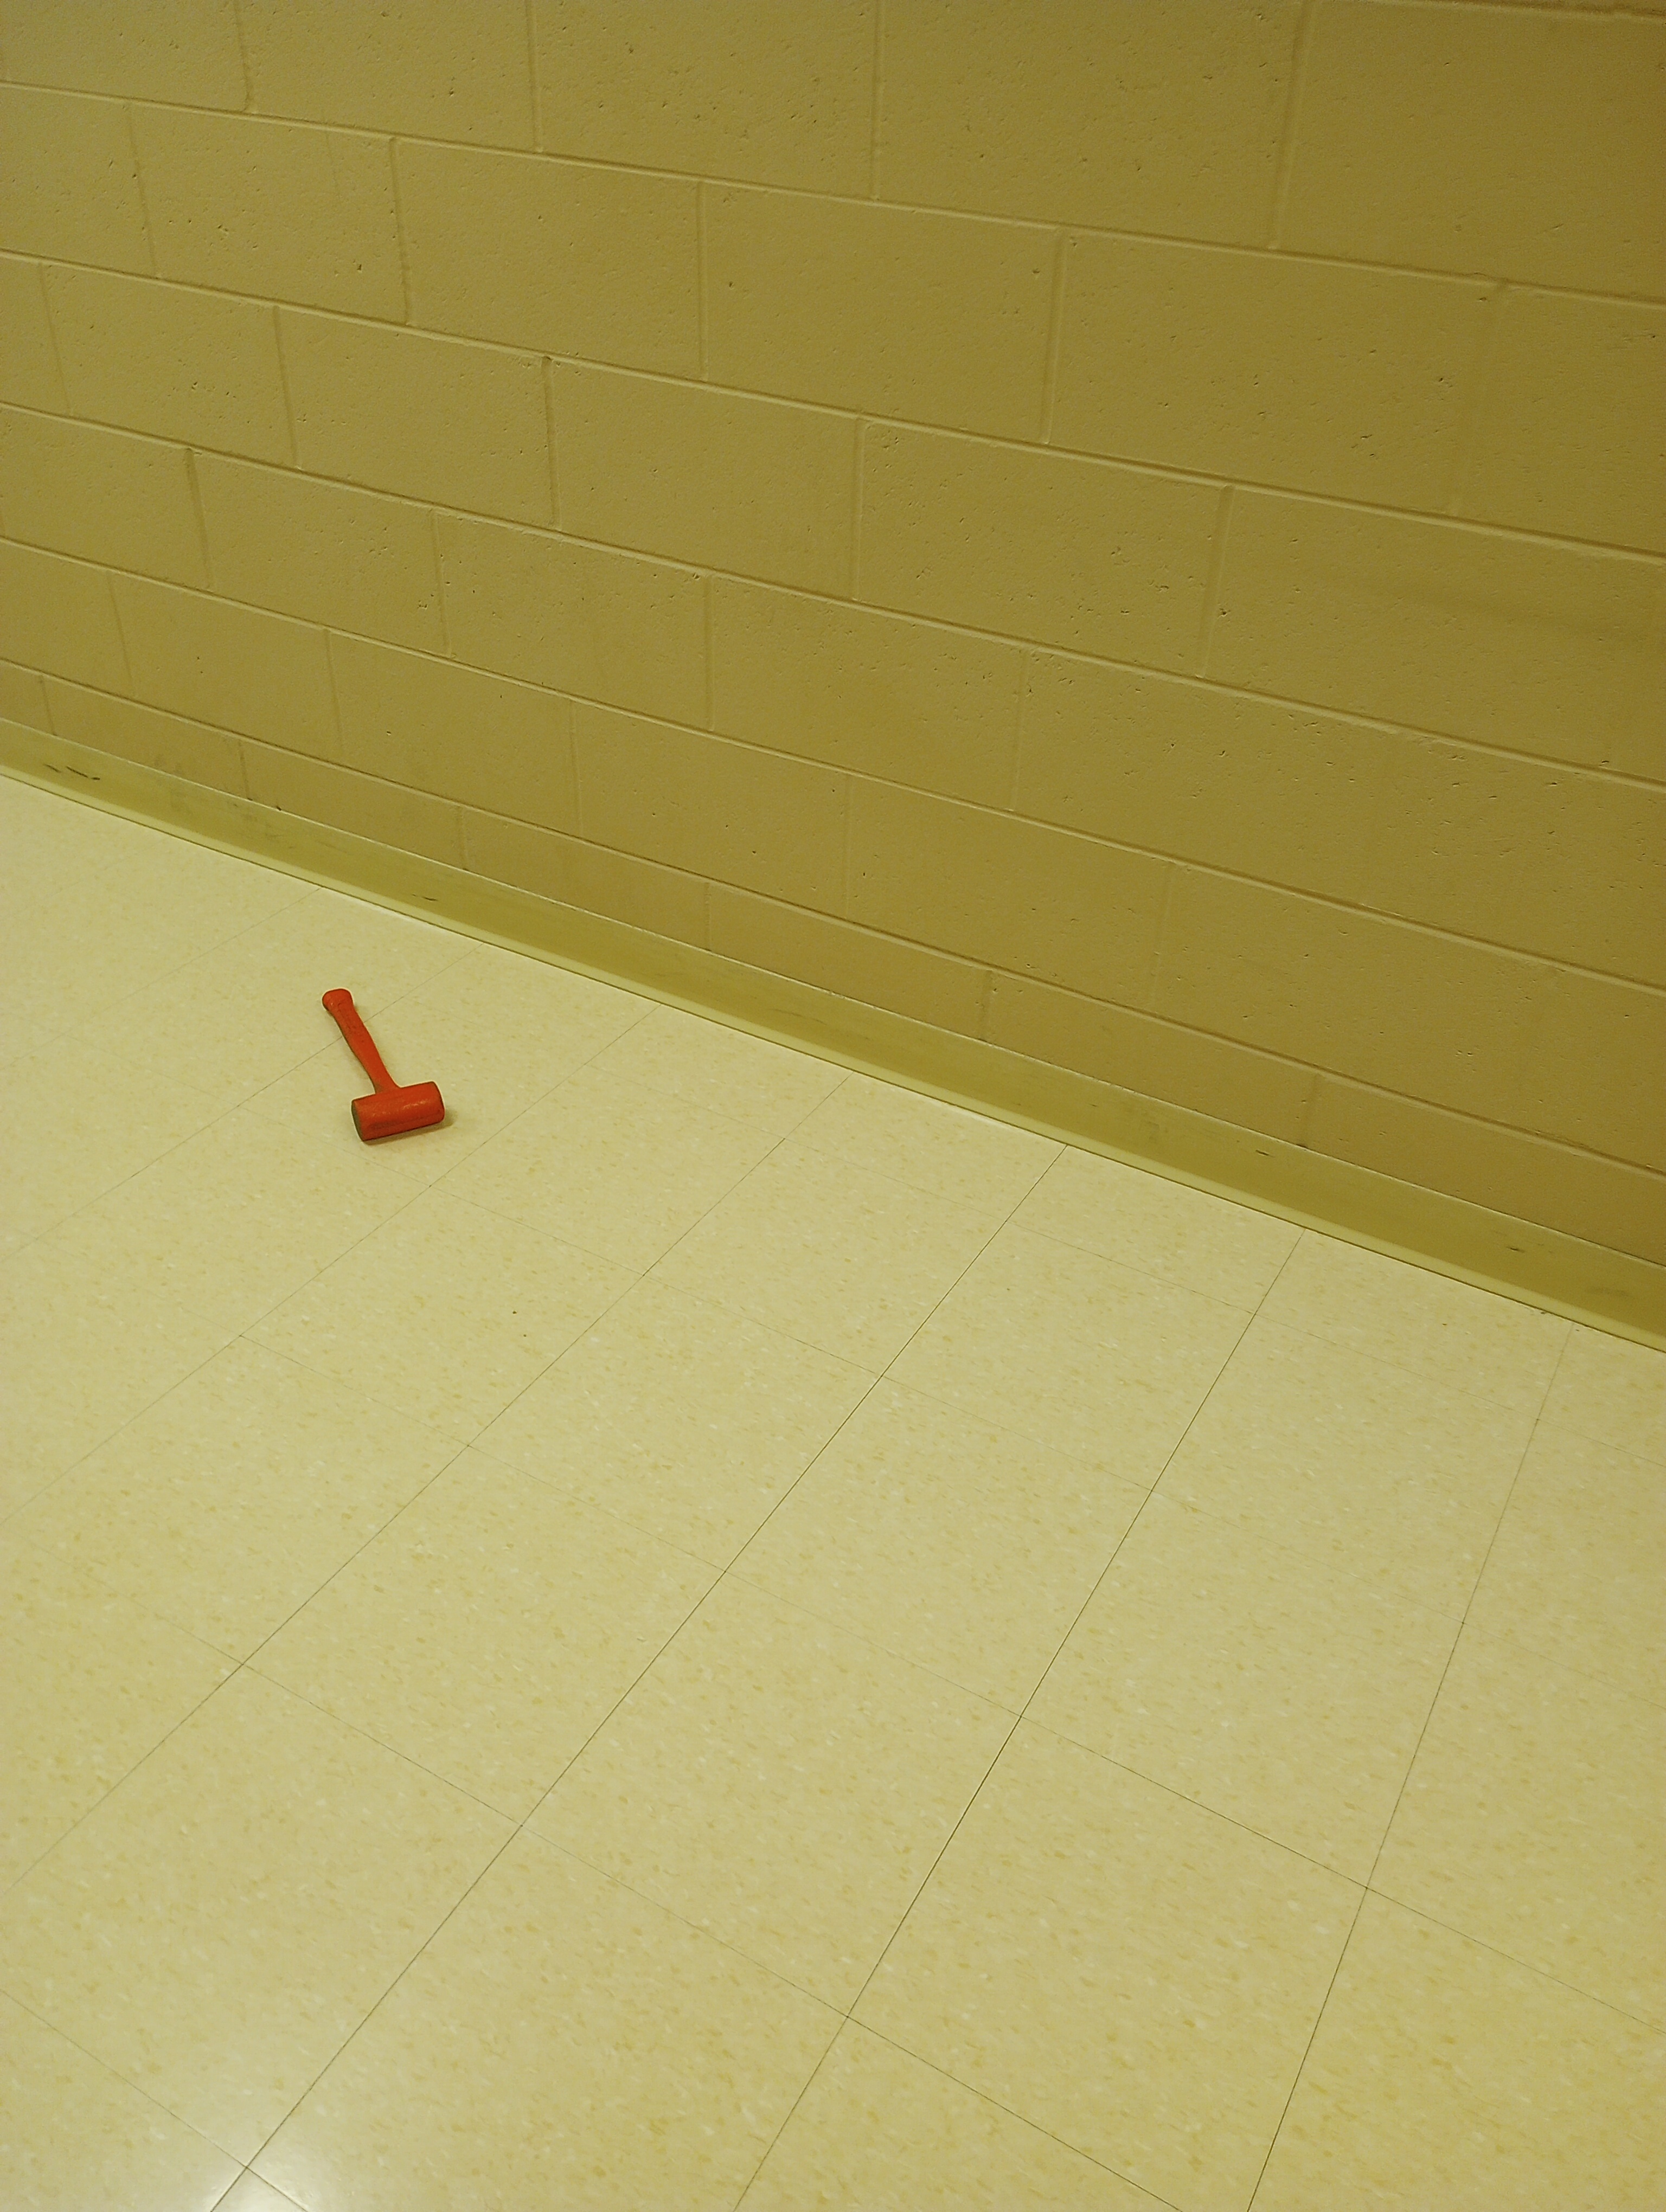bottle: (317, 976, 450, 1154)
